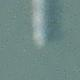ship: (0, 0, 20, 48)
